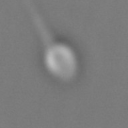normal: (17, 1, 52, 44)
